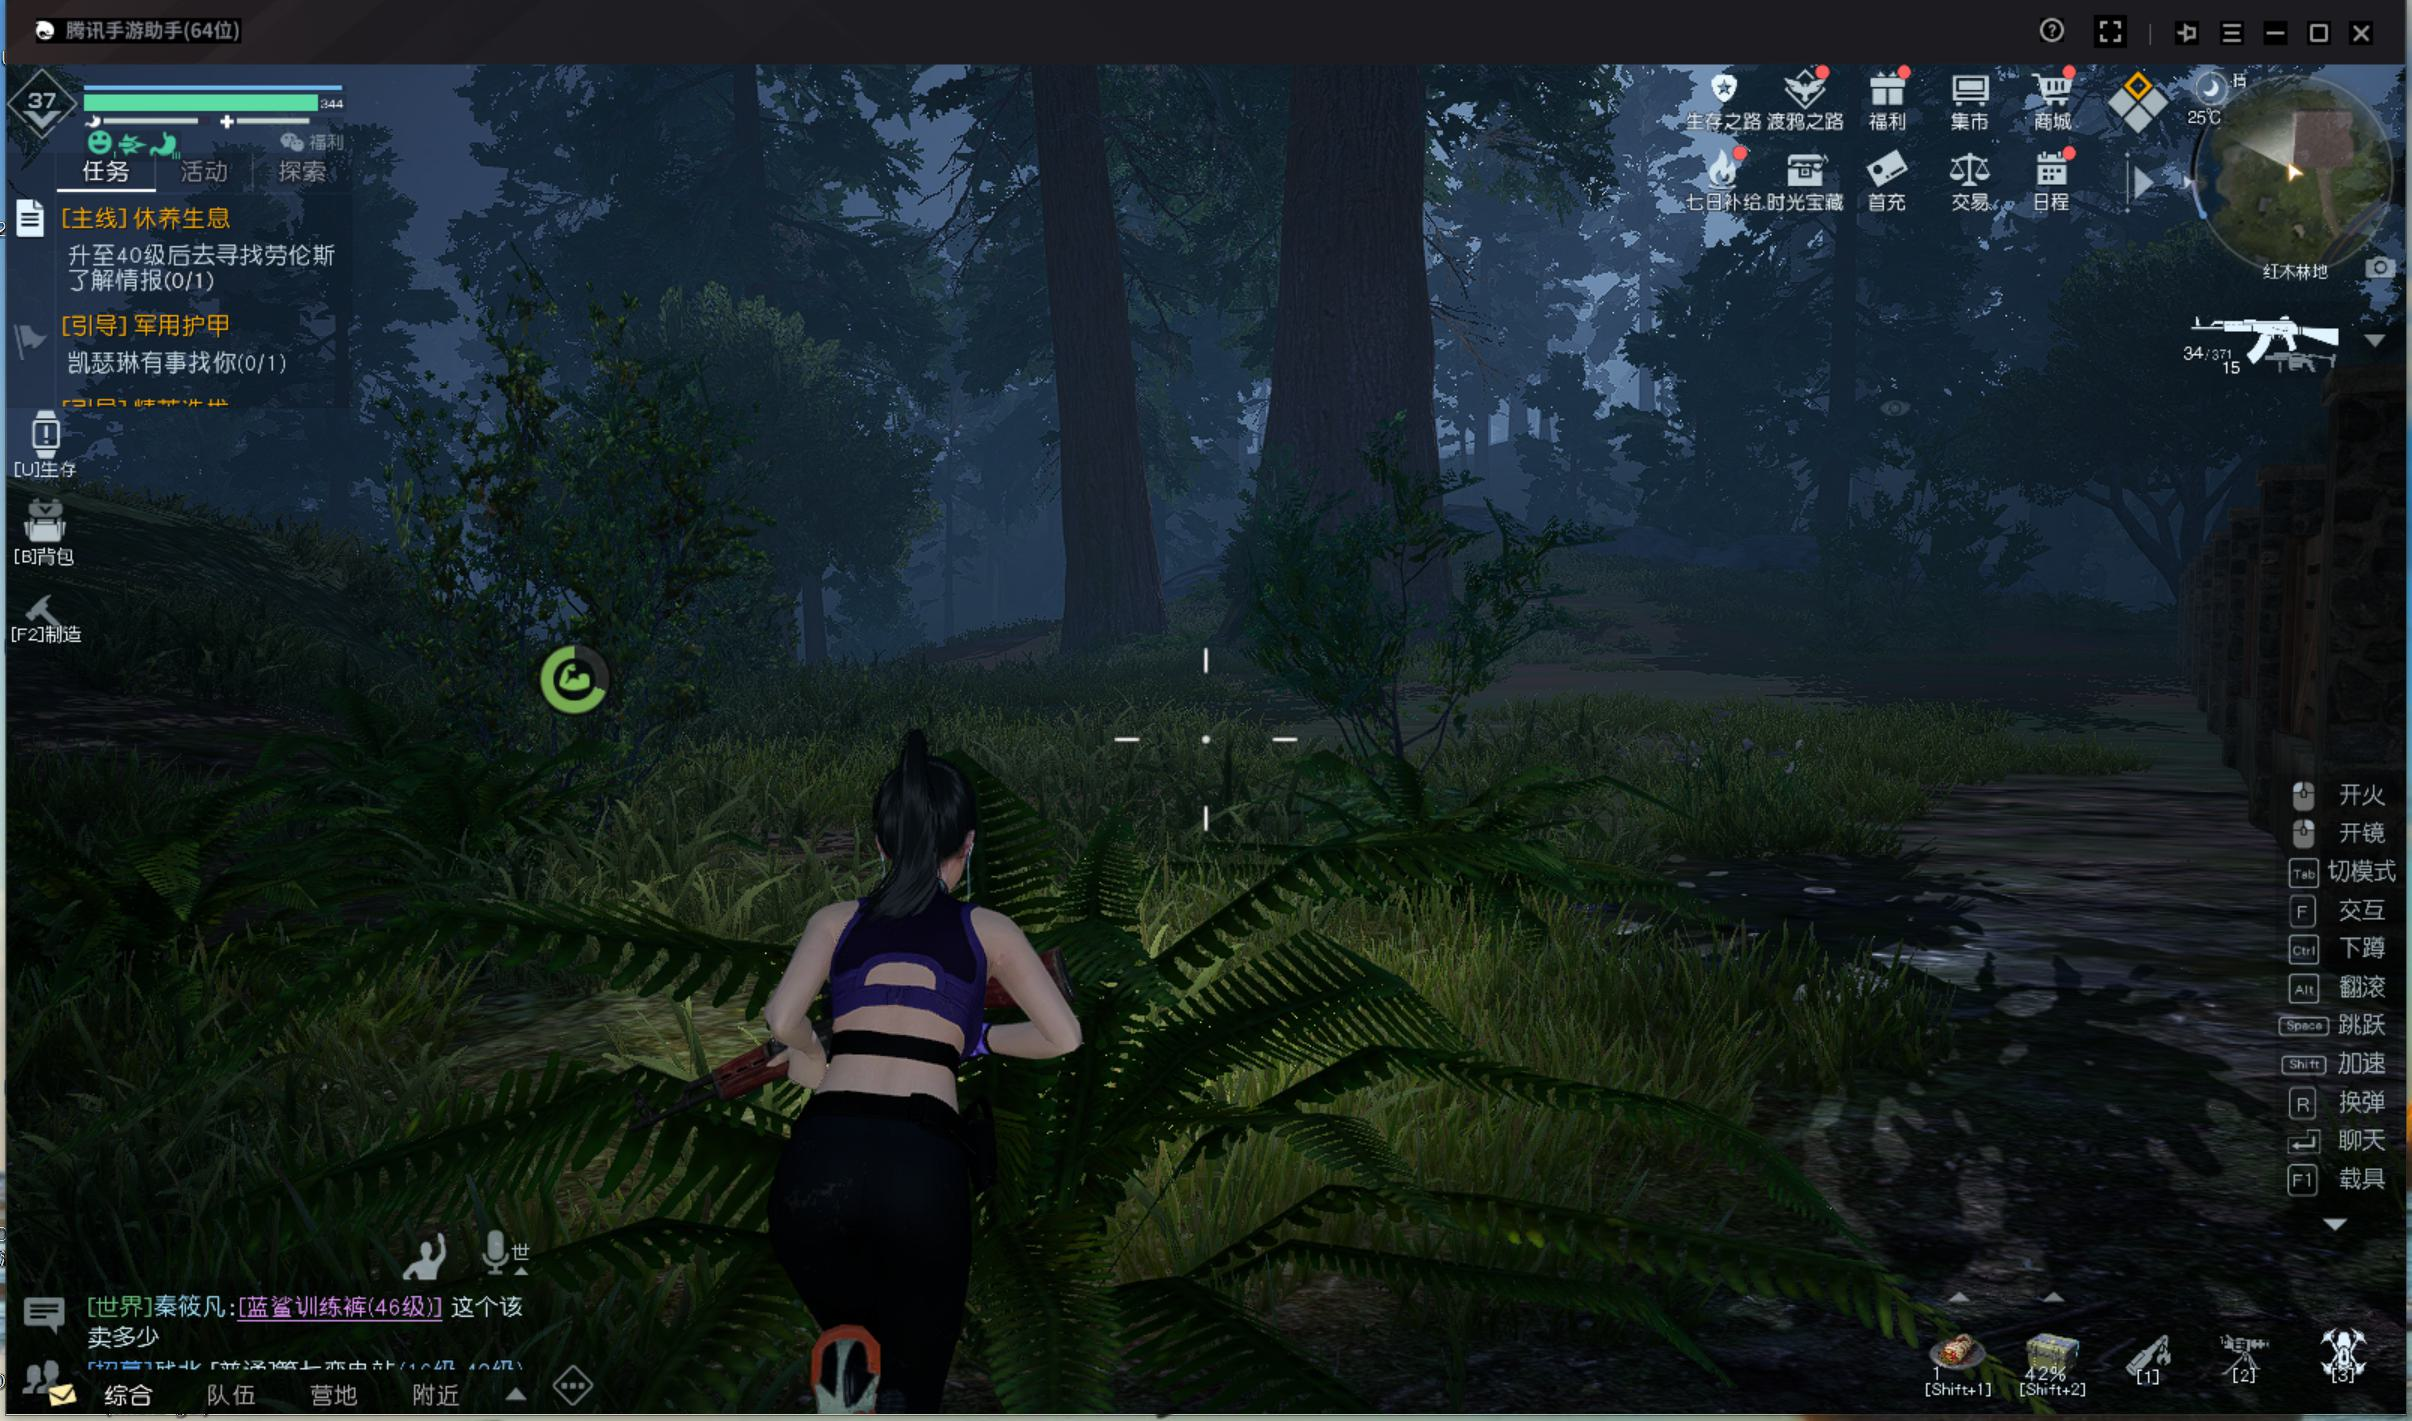tree: (1247, 173, 1439, 690), (1027, 171, 1154, 680)
